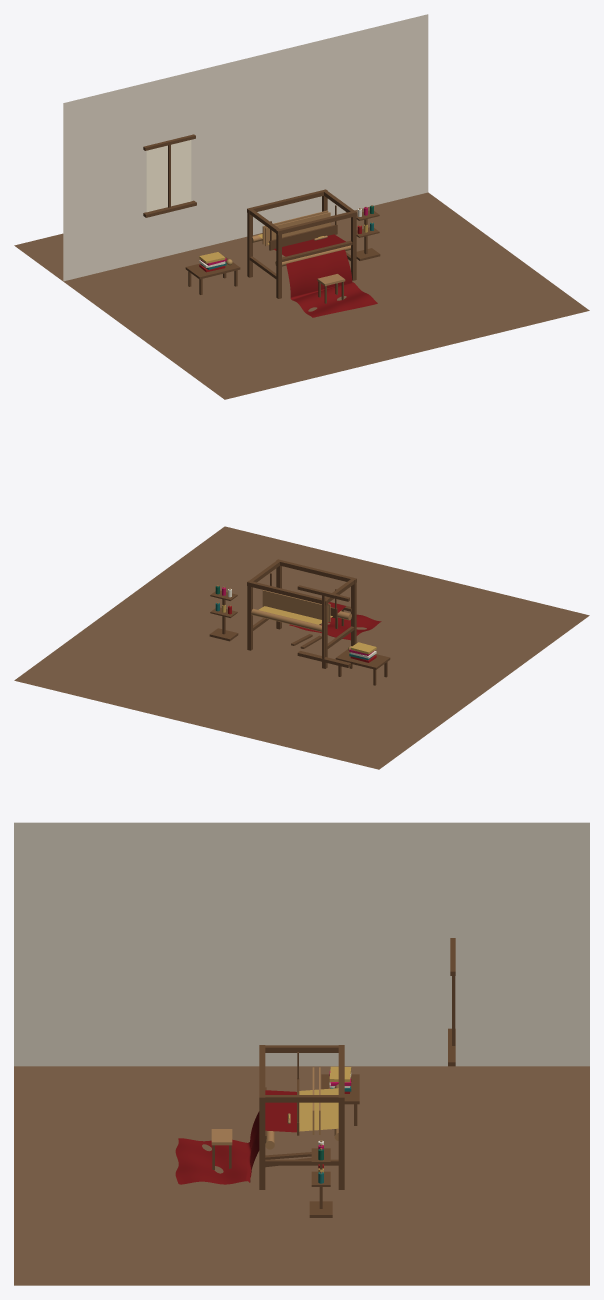
The model's file is loom.glb.
3 views of the same model, one above another, from view 1: azimuth 30°, elevation 25°; view 2: azimuth 150°, elevation 25°; view 3: azimuth 270°, elevation 25° (orthographic). The views are drawn at different scales.
Parts seen in each view (by area): view 1: Room_Wall, Room_Floor, Saree_Drape, Room_Window, Cloth_Woven, Loom_Reed, Loom_Heddle_A, Loom_TopBeam_F; view 2: Room_Floor, Loom_Heddle_B, Saree_Drape, Loom_WarpBeam, Loom_TopBeam_B, Loom_TopBeam_F; view 3: Room_WallSide, Room_Floor, Saree_Drape, Warp_Threads, Cloth_Woven.
Boxes of the visible parts, x1=… form: Room_Wall: x1=63, y1=14, x2=428, y2=281; Room_Floor: x1=14, y1=192, x2=589, y2=399; Saree_Drape: x1=286, y1=249, x2=377, y2=317; Room_Window: x1=146, y1=140, x2=191, y2=212; Cloth_Woven: x1=273, y1=234, x2=345, y2=256; Loom_Reed: x1=269, y1=225, x2=337, y2=250; Loom_Heddle_A: x1=265, y1=212, x2=330, y2=246; Loom_TopBeam_F: x1=276, y1=210, x2=356, y2=234; Room_Floor: x1=14, y1=526, x2=589, y2=769; Loom_Heddle_B: x1=262, y1=590, x2=328, y2=623; Saree_Drape: x1=289, y1=614, x2=381, y2=640; Loom_WarpBeam: x1=251, y1=608, x2=321, y2=631; Loom_TopBeam_B: x1=247, y1=580, x2=327, y2=604; Loom_TopBeam_F: x1=276, y1=559, x2=356, y2=583; Room_WallSide: x1=14, y1=822, x2=589, y2=1066; Room_Floor: x1=14, y1=1066, x2=589, y2=1285; Saree_Drape: x1=175, y1=1111, x2=259, y2=1184; Warp_Threads: x1=299, y1=1088, x2=338, y2=1131; Cloth_Woven: x1=265, y1=1090, x2=296, y2=1132.
Bounding box in the file's own units: 9 × 4.2 × 9.
